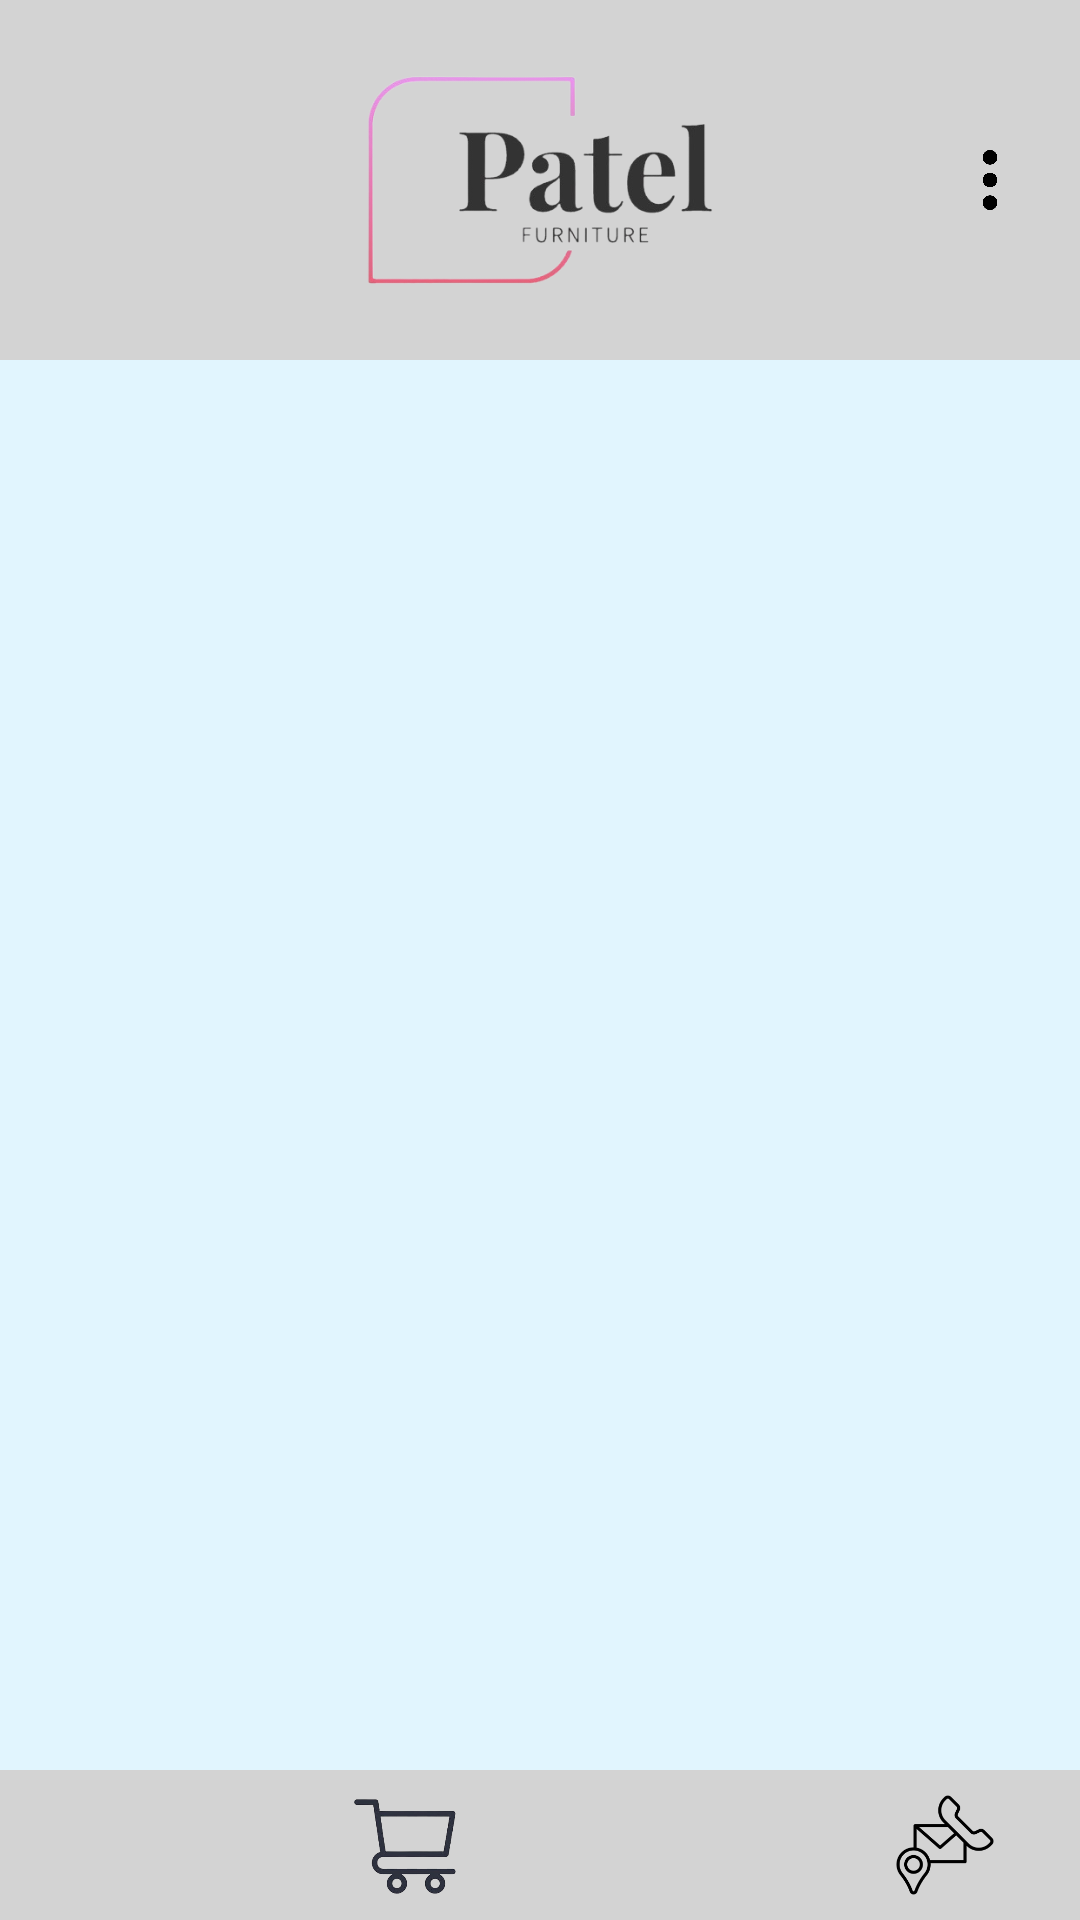

Named icons in this screenshot (1080px×1920px) and their bounding boxes, (x1, y1, x2, y2):
Cart Icon: (354, 1799, 456, 1894)
Contact Us Icon: (896, 1795, 994, 1895)
menu: (983, 150, 997, 210)
